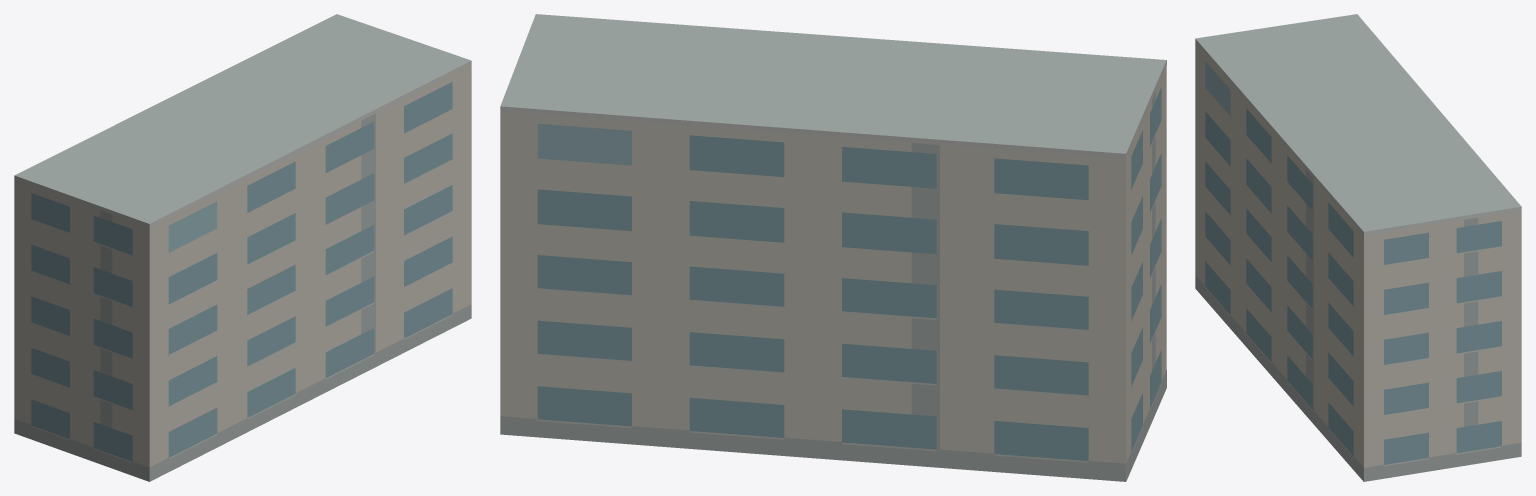
File: survey-upis-32857421.glb
The picture shows the model from 3 angles, left to right: view 1: azimuth 30°, elevation 25°; view 2: azimuth 150°, elevation 25°; view 3: azimuth 270°, elevation 25°; orthographic projection. The views are drawn at different scales.
Visible parts, largest first — view 1: survey-upis-32857421.tmp; view 2: survey-upis-32857421.tmp; view 3: survey-upis-32857421.tmp.
Boxes of the visible parts, x1,y1,x2,y2 form: survey-upis-32857421.tmp: [14, 14, 471, 481]; survey-upis-32857421.tmp: [500, 14, 1166, 481]; survey-upis-32857421.tmp: [1195, 14, 1521, 481].
Bounding box in the file's own units: 28.05 × 15 × 17.76.
